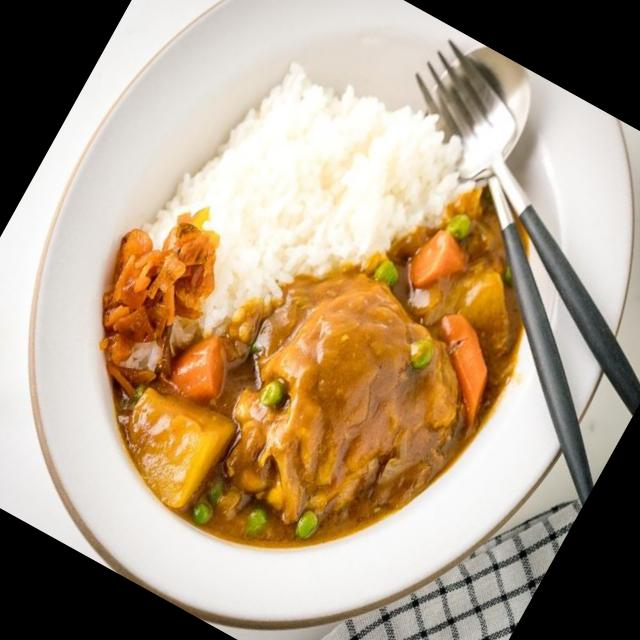chicken: (60, 225, 462, 590)
rice: (169, 38, 462, 355)
